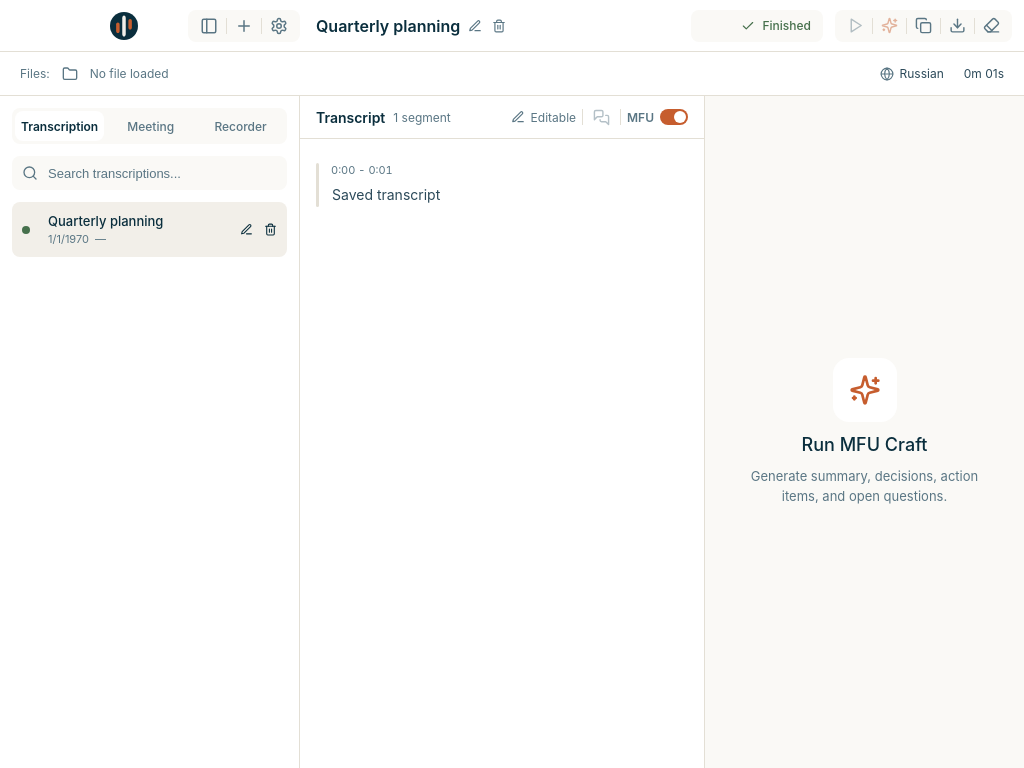
Test case: App — IPC failures surface as errors without breaking the workspace › reports a delete that the store rejects and keeps the meeting
Check: the heading "Quarterly planning" is shown, box top-left (316, 16), bottom-right (460, 36)
Click the button named "Delete transcription" at (499, 26), box top-left (490, 16), bottom-right (508, 34)
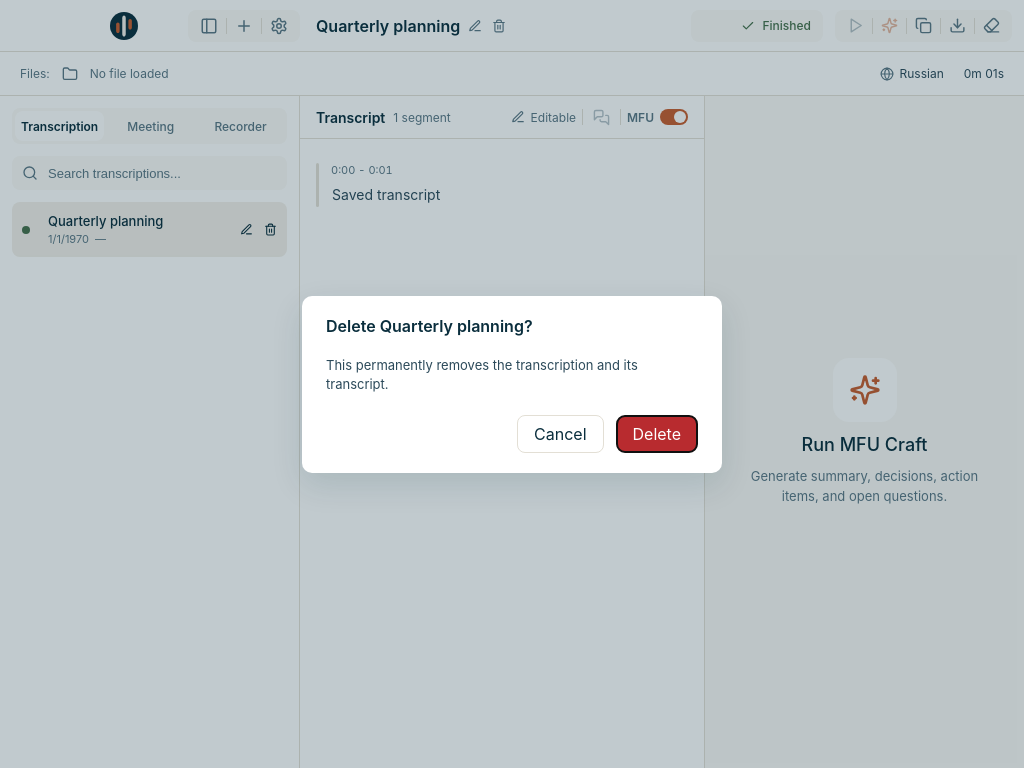
Click the button "Delete" at (657, 434), box top-left (616, 414), bottom-right (698, 452)
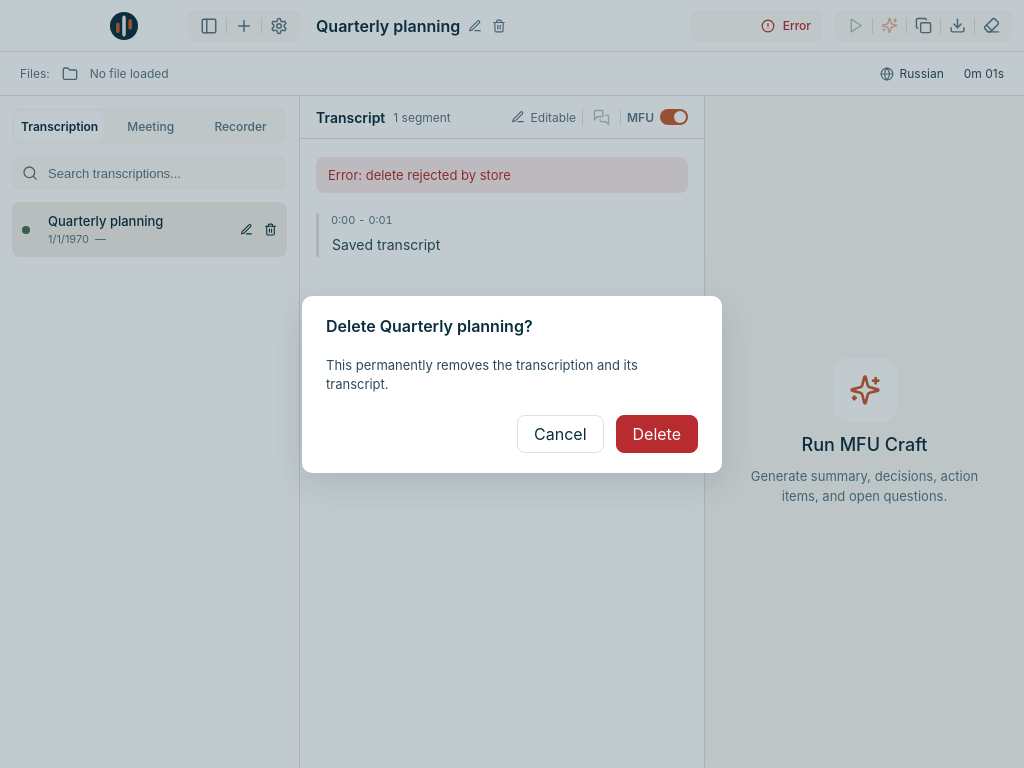
Check: the heading "Quarterly planning" is shown, box top-left (316, 16), bottom-right (460, 36)
Check: the text "Error: delete rejected by store" is shown, box top-left (316, 157), bottom-right (688, 193)
